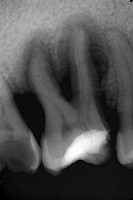Dental Caries: (22, 12, 109, 105)
